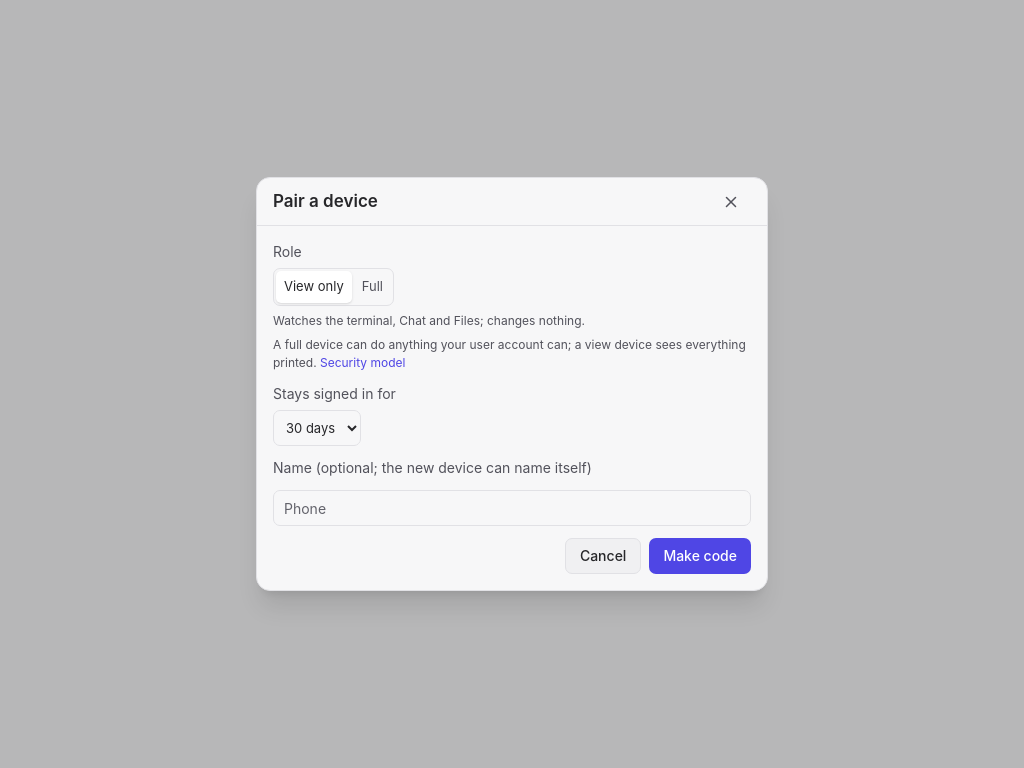
Test case: PairDeviceSheet › shows the code, its QR code, the countdown and the link
This screenshot has width=1024, height=768.
Click the button "Make code": click(700, 556) x1=649 y1=538 x2=751 y2=574
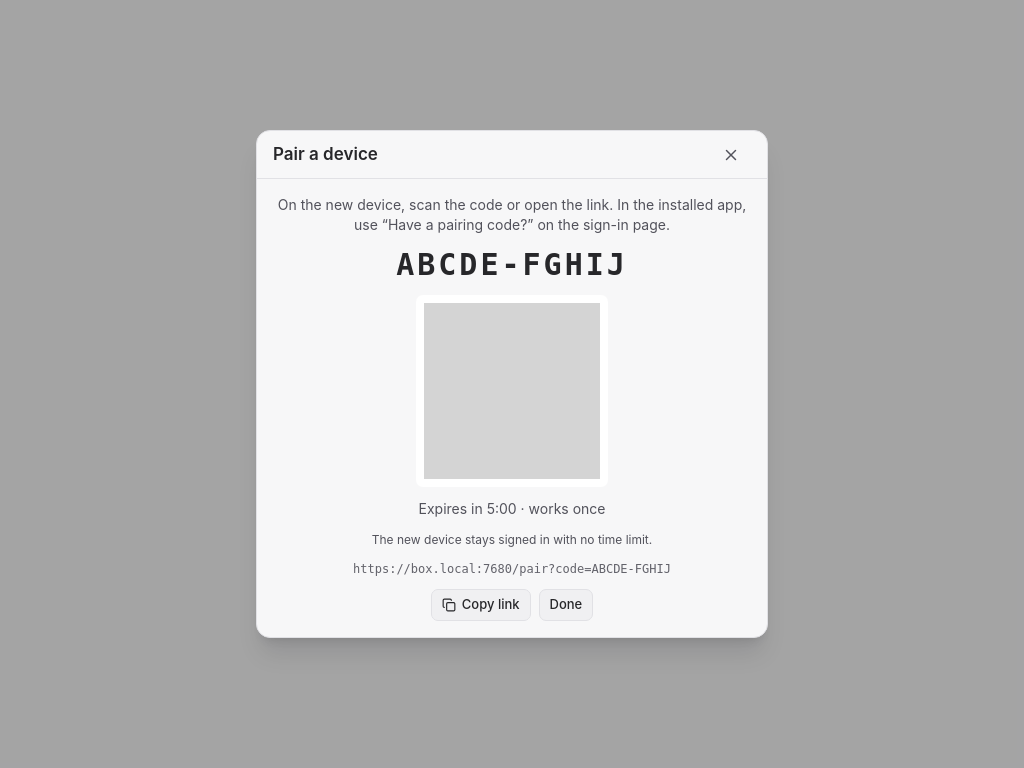
Expected: the text "Expires in 5:00 · works once" is shown, x1=418 y1=499 x2=606 y2=519
Expected: the text "https://box.local:7680/pair?code=ABCDE-FGHIJ" is shown, x1=353 y1=562 x2=671 y2=576
Expected: the button "Copy link" is shown, x1=431 y1=589 x2=531 y2=621
